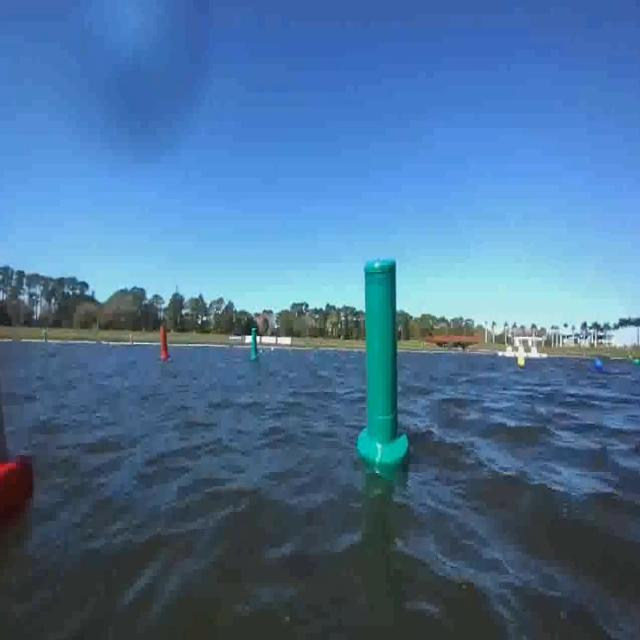blue-buoy: (592, 357, 602, 373)
green-column-buoy: (356, 255, 406, 466), (249, 327, 260, 362)
red-column-buoy: (158, 328, 169, 362)
yellow-buoy: (516, 355, 524, 370)
